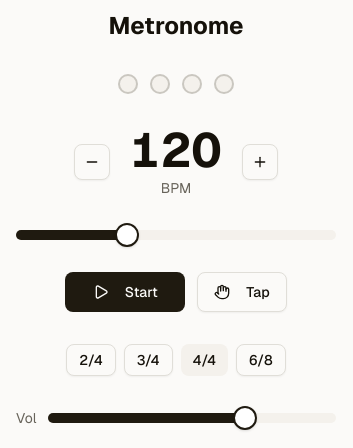
Test: Metronome › decreases BPM when - button clicked
This screenshot has width=353, height=448.
Click the button with test id "bpm-decrease" at (92, 162), box [74,144,110,180]
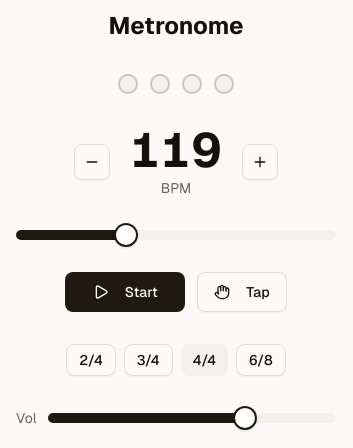
Now the button with test id "bpm-display" reads "119", box [130,126,222,174]
